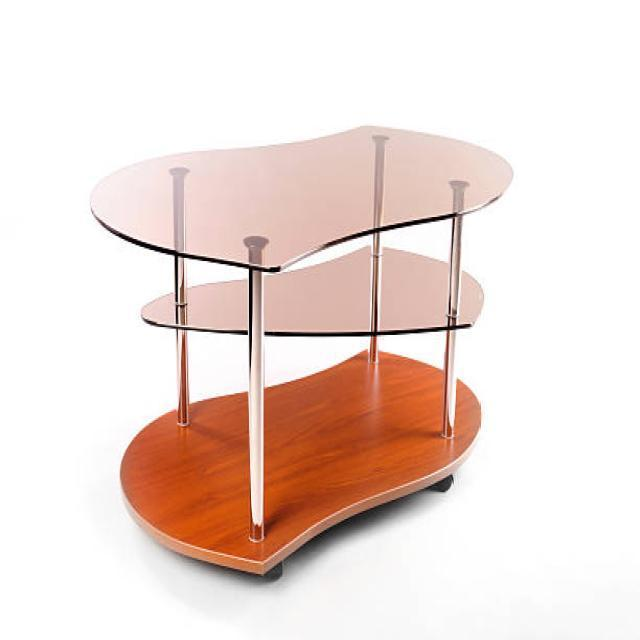table: (90, 122, 514, 578)
